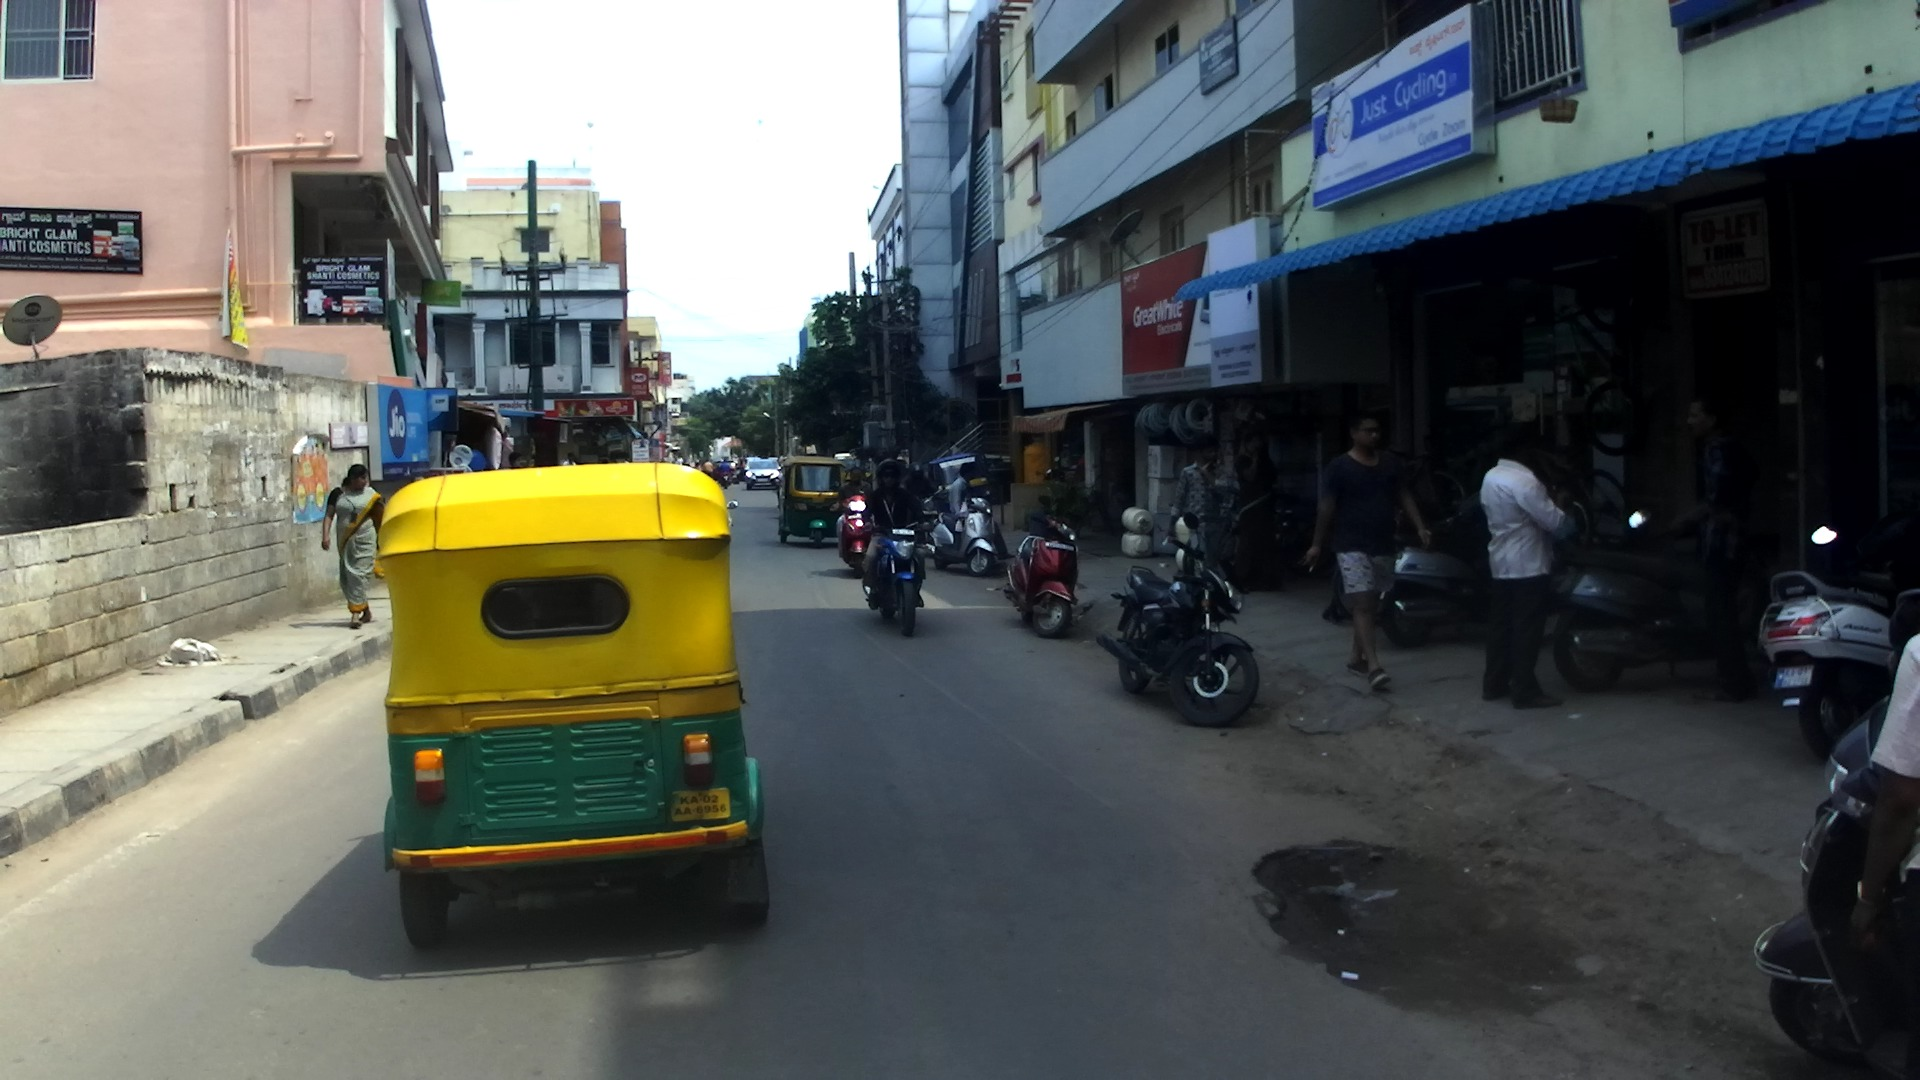autorickshaw: (378, 460, 776, 947), (776, 454, 849, 548), (921, 456, 990, 522)
bicycle: (1394, 446, 1632, 558), (1322, 547, 1398, 625), (1394, 447, 1462, 523), (1054, 479, 1116, 535)
car: (741, 456, 785, 491), (712, 459, 746, 483), (833, 453, 859, 473)
motorcycle: (1752, 591, 1920, 1080), (1547, 507, 1765, 695), (1757, 524, 1916, 761), (1094, 512, 1262, 729), (1375, 536, 1560, 651), (985, 496, 1080, 639), (858, 512, 937, 638), (925, 492, 1002, 575), (835, 495, 883, 579), (1277, 502, 1328, 573), (907, 483, 949, 559), (1037, 456, 1077, 483), (718, 468, 734, 492), (733, 466, 747, 482)
person: (1301, 409, 1431, 689), (1477, 424, 1578, 710), (1672, 396, 1761, 704), (1170, 434, 1240, 599), (320, 463, 386, 628), (1238, 431, 1295, 593), (507, 452, 527, 471), (561, 452, 578, 469), (702, 456, 714, 480), (693, 459, 703, 475), (599, 456, 610, 464), (622, 457, 630, 464)
rider: (1863, 626, 1920, 1080), (859, 460, 930, 611), (948, 462, 1016, 560), (835, 465, 879, 563), (902, 462, 941, 519), (736, 455, 749, 479), (720, 458, 731, 481)
